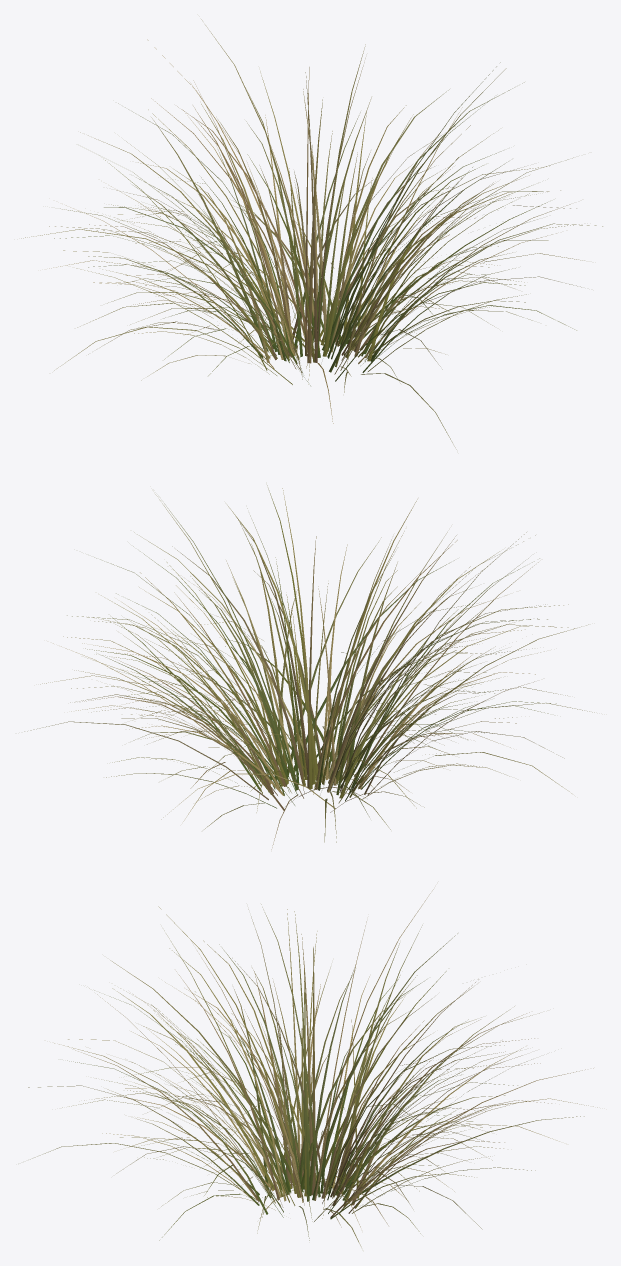
The model's file is tussock_a.glb.
The picture shows the model from 3 angles, top to bottom: view 1: azimuth 30°, elevation 25°; view 2: azimuth 150°, elevation 25°; view 3: azimuth 270°, elevation 25°; orthographic projection. The views are drawn at different scales.
Parts seen in each view (by area): view 1: tussock_a; view 2: tussock_a; view 3: tussock_a.
Boxes of the visible parts, left/top/right/bottom form: tussock_a: left=21, top=19, right=602, bottom=449; tussock_a: left=24, top=485, right=594, bottom=849; tussock_a: left=28, top=889, right=597, bottom=1247.
Size of the model in its own units: 1.08 by 0.5769 by 1.12.
